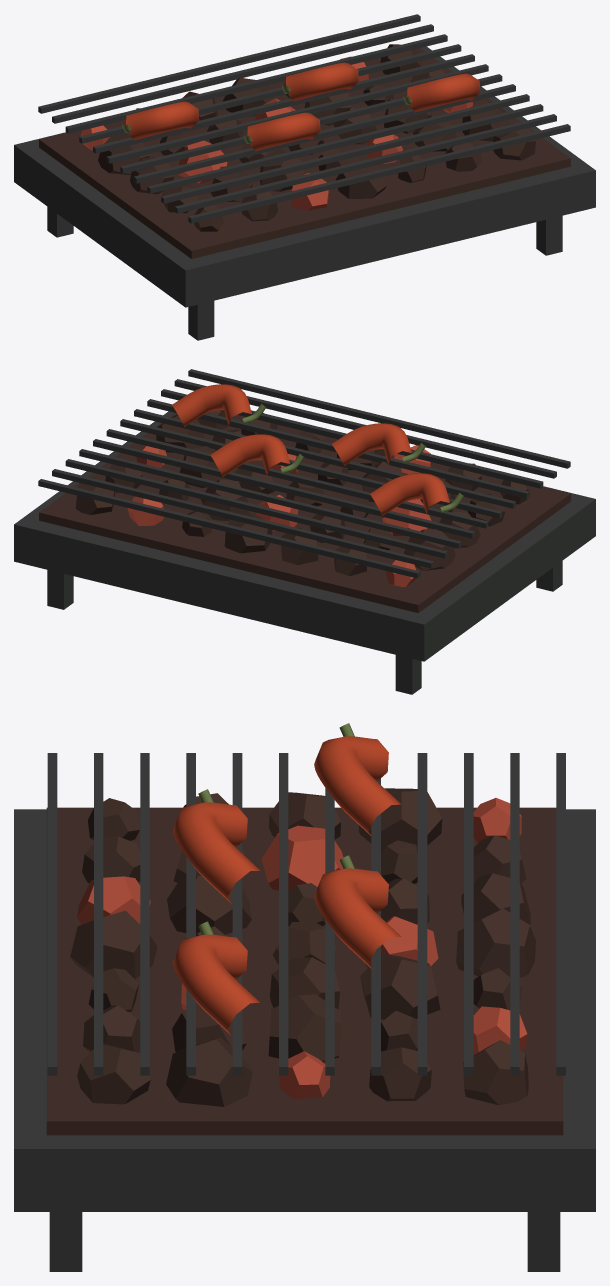
File: brasa.glb
3 renders of one model, top to bottom at view 1: azimuth 30°, elevation 25°; view 2: azimuth 150°, elevation 25°; view 3: azimuth 270°, elevation 25°, orthographic. The views are drawn at different scales.
Visible parts, largest first — view 1: brasa; view 2: brasa; view 3: brasa.
Boxes of the visible parts, box(x1,y1,x2,y2) form: brasa: box(14, 14, 595, 340); brasa: box(14, 369, 595, 694); brasa: box(14, 723, 595, 1271).
Bounding box in the file's own units: 3.7 × 1.38 × 2.68.
